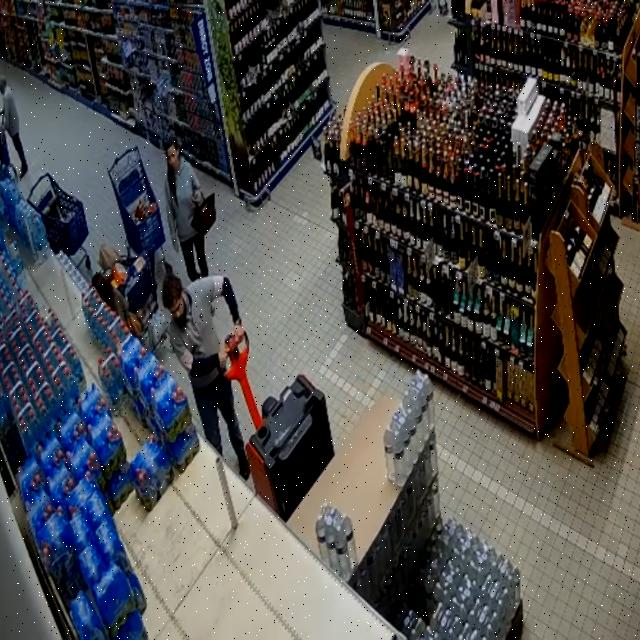bags: (192, 194, 216, 235)
hands: (219, 343, 228, 370), (192, 190, 204, 206), (234, 324, 244, 341), (171, 233, 179, 253)
person: (163, 272, 249, 479), (166, 137, 208, 281), (0, 77, 27, 177)
